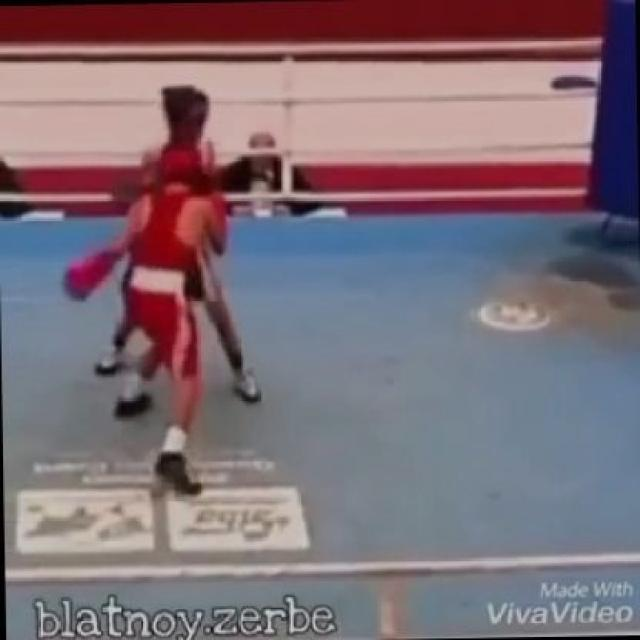fight: (31, 66, 280, 502)
